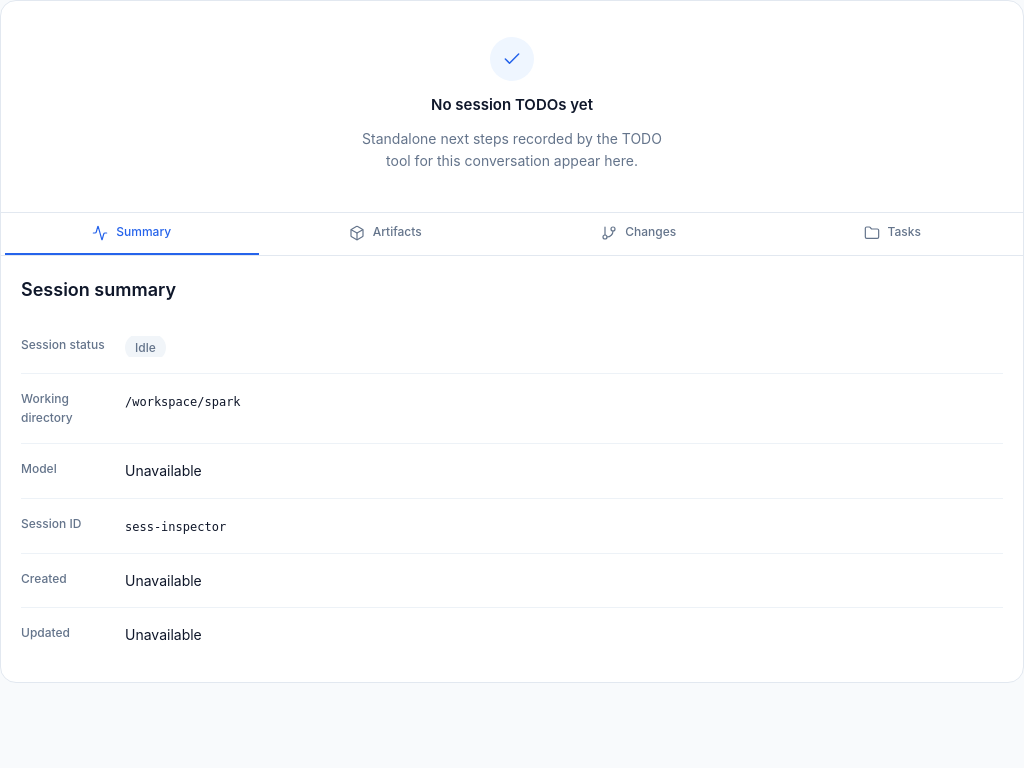
switches inspector tabs by click and roving keyboard focus
Expected: the heading "Session summary" is shown, 21,279 -> 176,300
Click the tab "Artifacts" at (385, 234), box 258,213 -> 512,255
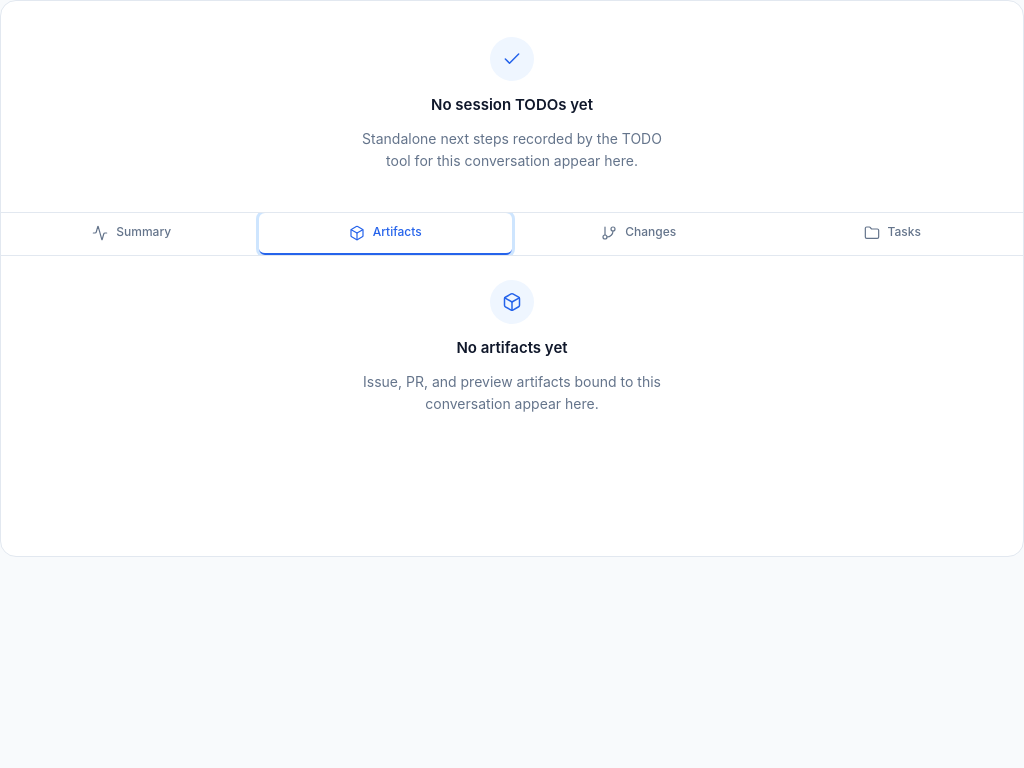
Now the heading "No artifacts yet" is shown, box 456,336 -> 568,359
Press Arrowright
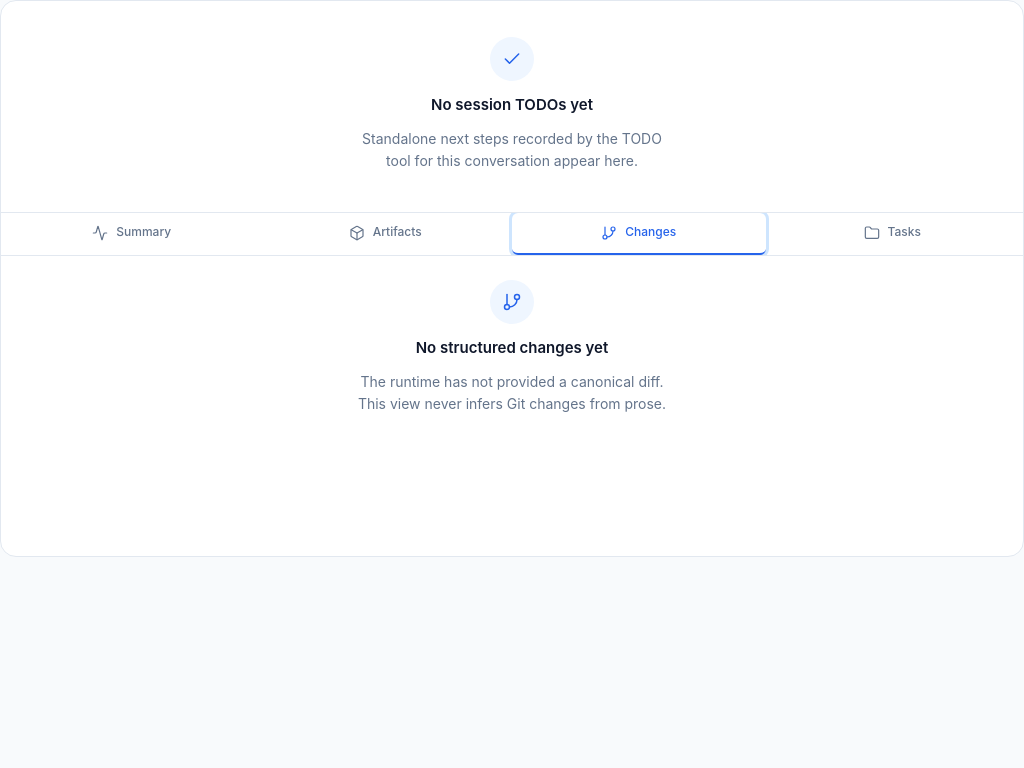
Now the heading "No structured changes yet" is shown, box 416,336 -> 608,359
Press End
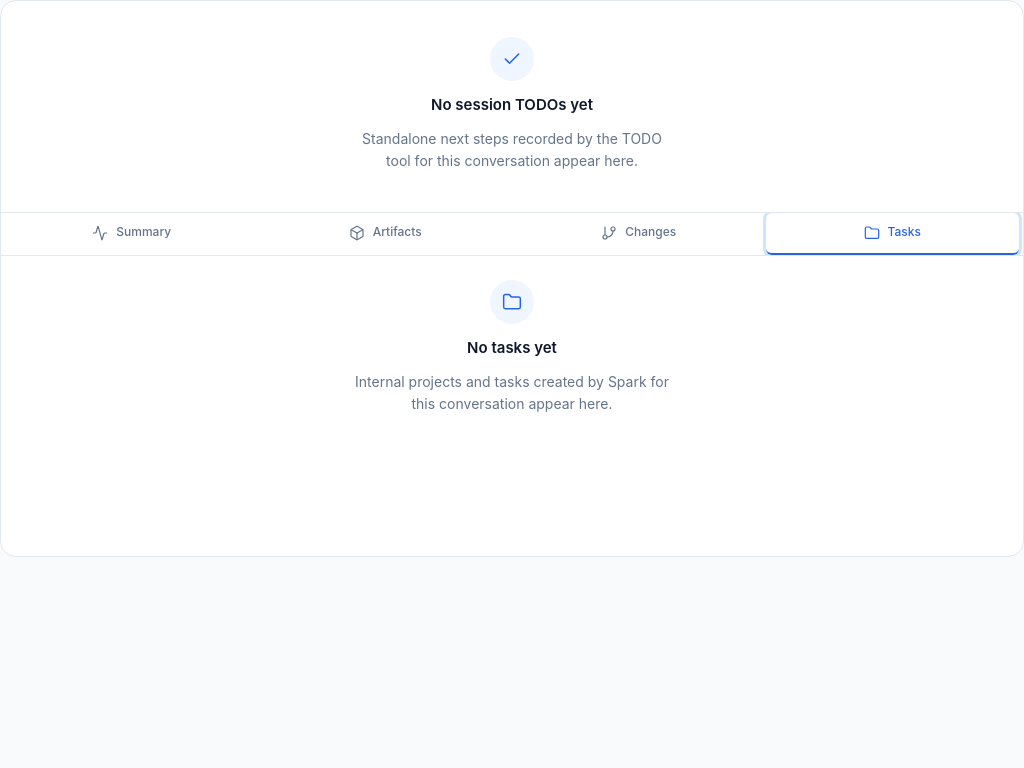
Now the heading "No tasks yet" is shown, box 467,336 -> 557,359
Press Home
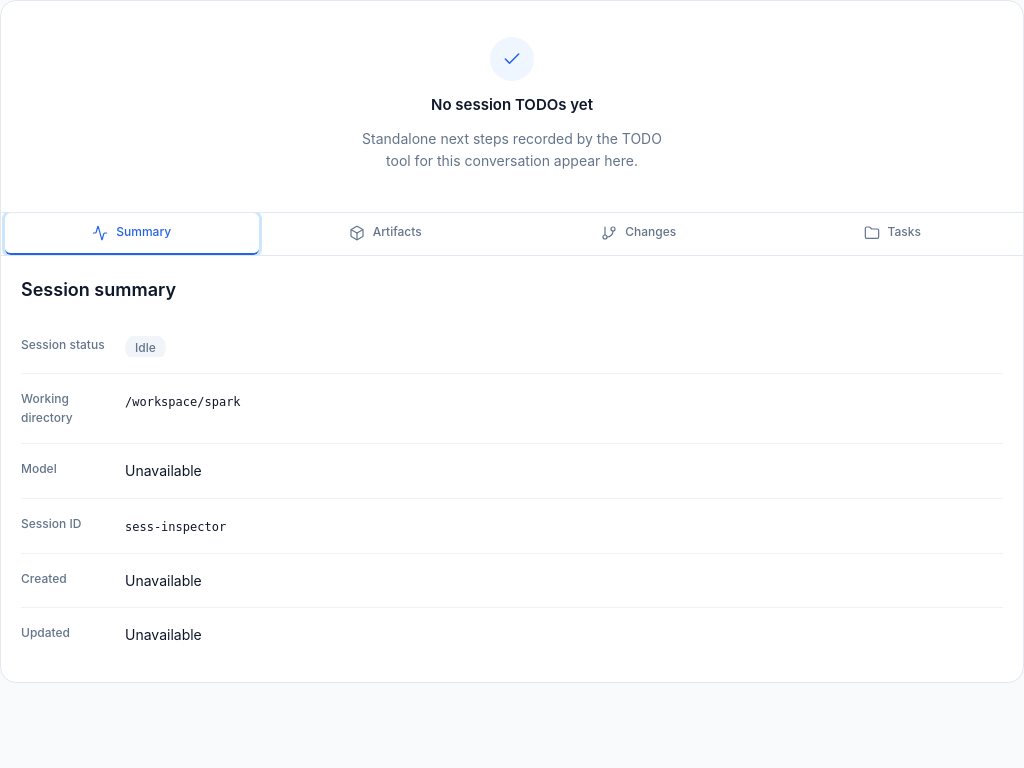
Now the heading "Session summary" is shown, box 21,279 -> 176,300
